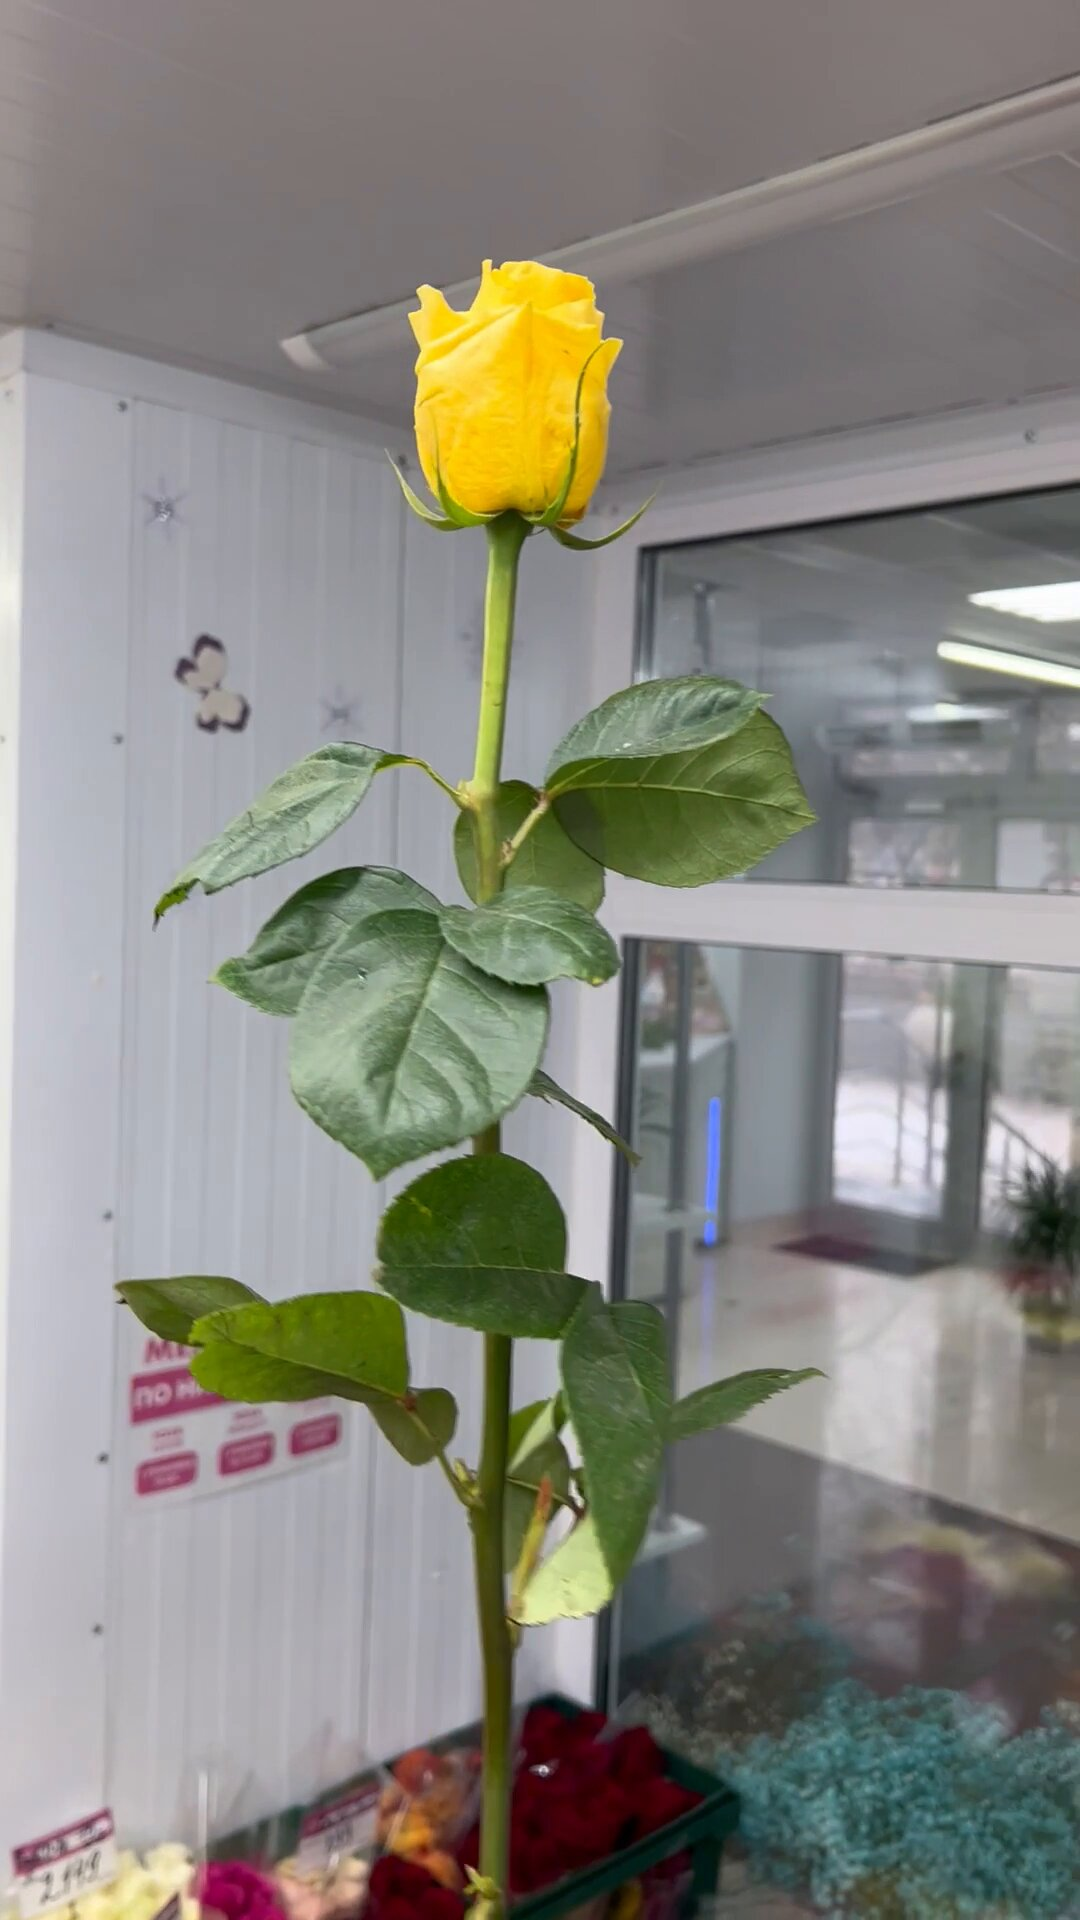rose: (229, 252, 818, 1685)
